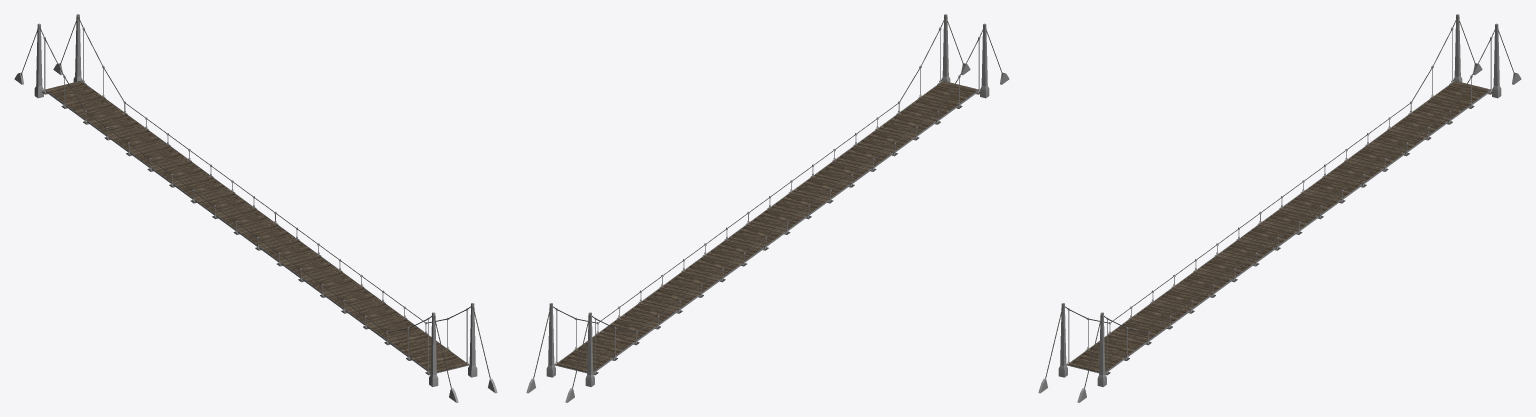
Rendered from objects_un_sus_bridge01_50m.gltf.
3 views of the same model, side by side, from view 1: azimuth 30°, elevation 25°; view 2: azimuth 150°, elevation 25°; view 3: azimuth 330°, elevation 25° (orthographic).
Visible parts, largest first — view 1: objects_un_sus_bridge01_50m_mesh_shape:objects_un_sus_bridge; view 2: objects_un_sus_bridge01_50m_mesh_shape:objects_un_sus_bridge; view 3: objects_un_sus_bridge01_50m_mesh_shape:objects_un_sus_bridge.
Boxes of the visible parts, x1,y1,x2,y2 form: objects_un_sus_bridge01_50m_mesh_shape:objects_un_sus_bridge: [14, 14, 497, 402]; objects_un_sus_bridge01_50m_mesh_shape:objects_un_sus_bridge: [526, 14, 1009, 402]; objects_un_sus_bridge01_50m_mesh_shape:objects_un_sus_bridge: [1038, 14, 1521, 402].
Size of the model in its own units: 3.25 by 5 by 55.49.
Materials: 1 (1 with a texture image).
